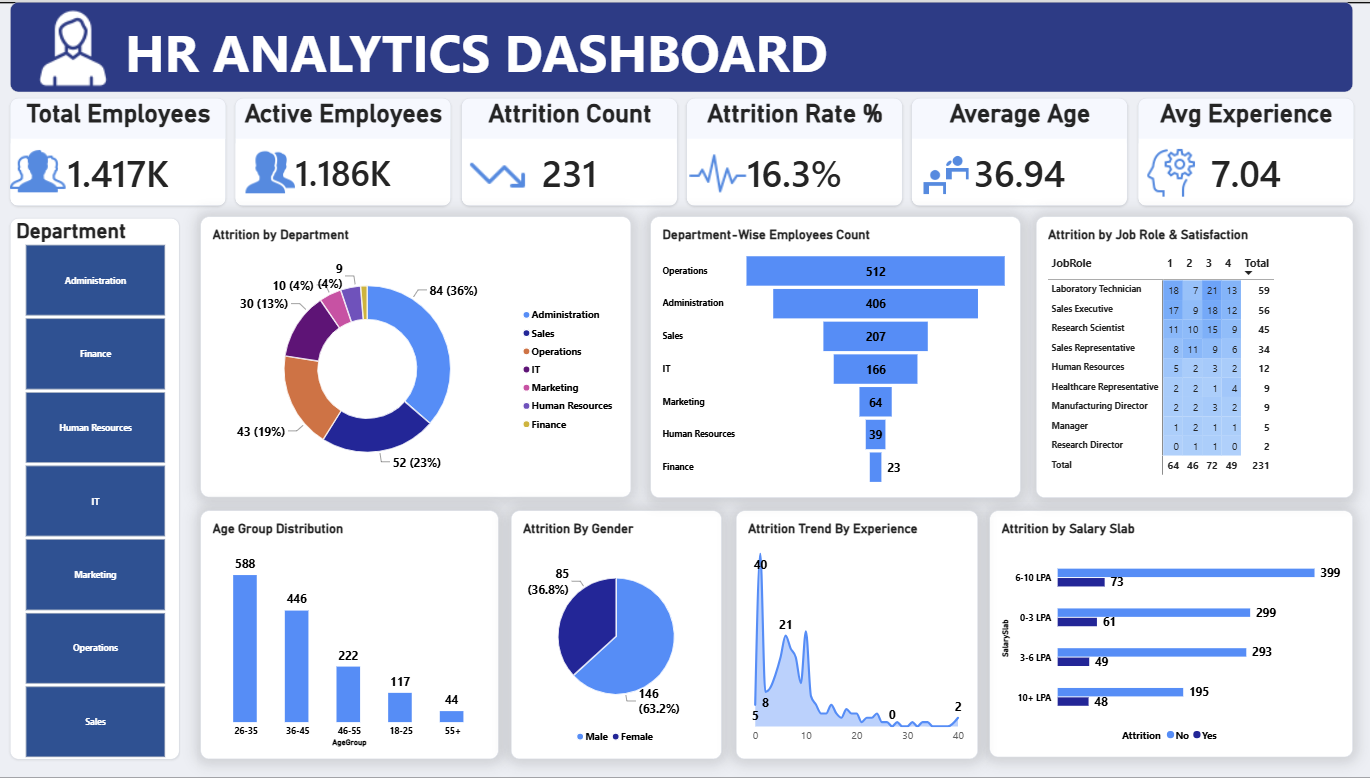

Layout of this report page (visuals, bound fields, positions):
{"tool":"powerbi","page":{"name":"HR Analytics","canvas":[1920,1080],"ordinal":0},"visuals":[{"type":"textbox","box":[25.6,0,1865.1,125.6],"z":0},{"type":"cardVisual","title":"Total Employees","fields":{"Data":["CountNonNull(HR_Analytics-4.EmpID)"]},"box":[25,134.1,300,150],"z":1000},{"type":"cardVisual","title":"Attrition Count","fields":{"Data":["Sum(HR_Analytics-4.AttritionCount)"]},"box":[651.4,134.1,300,150],"z":2000},{"type":"cardVisual","title":"Attrition Rate %","fields":{"Data":["HR_Analytics-4.Attrition Rate %"]},"box":[964.5,134.1,300,150],"z":3000},{"type":"cardVisual","title":"Average Age","fields":{"Data":["Avg(HR_Analytics-4.Age)"]},"box":[1277.7,134.1,300,150],"z":4000},{"type":"cardVisual","title":"Avg Experience","fields":{"Data":["Avg(HR_Analytics-4.YearsatCompany)"]},"box":[1590.9,134.1,300,150],"z":5000},{"type":"cardVisual","title":"Active Employees","fields":{"Data":["CountNonNull(HR_Analytics-4.EmployeeCount)"]},"box":[338.2,134.1,300,150],"z":6000},{"type":"donutChart","title":"Attrition by Department","fields":{"Category":["HR_Analytics-4.Department"],"Y":["Sum(HR_Analytics-4.AttritionCount)"]},"box":[290,298,598,390],"z":7000},{"type":"clusteredBarChart","title":"Attrition by Salary Slab","fields":{"Category":["HR_Analytics-4.SalarySlab"],"Series":["HR_Analytics-4.Attrition"],"Y":["CountNonNull(HR_Analytics-4.EmpID)"]},"box":[1385.7,707.1,504.8,342.9],"z":8000},{"type":"pivotTable","title":"Attrition by Job Role & Satisfaction","fields":{"Columns":["HR_Analytics-4.JobSatisfaction"],"Rows":["HR_Analytics-4.JobRole"],"Values":["Sum(HR_Analytics-4.AttritionCount)"]},"box":[1450,297.6,440.5,390.5],"z":9000},{"type":"columnChart","title":"Age Group Distribution ","fields":{"Category":["HR_Analytics-4.AgeGroup"],"Y":["Sum(HR_Analytics-4.EmployeeCount)"]},"box":[290.5,707.1,414.3,345.2],"z":10000},{"type":"pieChart","title":"Attrition By Gender","fields":{"Category":["HR_Analytics-4.Gender"],"Y":["Sum(HR_Analytics-4.AttritionCount)"]},"box":[721.4,707.1,292.9,345.2],"z":11000},{"type":"areaChart","title":"Attrition Trend By Experience","fields":{"Category":["HR_Analytics-4.TotalExperience(Years)"],"Y2":["Sum(HR_Analytics-4.AttritionCount)"]},"box":[1033.3,707.1,335.7,345.2],"z":12000},{"type":"funnel","title":"Department-Wise Employees Count","fields":{"Category":["HR_Analytics-4.Department"],"Y":["CountNonNull(HR_Analytics-4.EmpID)"]},"box":[914.3,297.6,514.3,390.5],"z":13000},{"type":"slicer","title":"Department","fields":{"Values":["HR_Analytics-4.Department"]},"box":[24.3,300.1,235.2,752.2],"z":14000},{"type":"image","box":[352.8,196.7,68.9,79.1],"z":15000},{"type":"image","box":[34,194,78,88],"z":16000},{"type":"image","box":[661,198.7,83.1,85.2],"z":17000},{"type":"image","box":[1293.6,196.7,62.9,89.2],"z":18000},{"type":"image","box":[959,200.7,99.4,79.1],"z":19000},{"type":"image","box":[1599.8,190.6,75,95.3],"z":20000},{"type":"image","box":[0,5,225,120],"z":21000}]}

Visuals, with their boxes in screenshot pixels (x1, y1, x2, y2), scaled from the page's 1920x1080 canvas onto the 1370x778 screenshot:
textbox: BBox(18, 0, 1349, 90)
"Total Employees" cardVisual: BBox(18, 97, 232, 205)
"Attrition Count" cardVisual: BBox(465, 97, 679, 205)
"Attrition Rate %" cardVisual: BBox(688, 97, 902, 205)
"Average Age" cardVisual: BBox(912, 97, 1126, 205)
"Avg Experience" cardVisual: BBox(1135, 97, 1349, 205)
"Active Employees" cardVisual: BBox(241, 97, 455, 205)
"Attrition by Department" donutChart: BBox(207, 215, 634, 496)
"Attrition by Salary Slab" clusteredBarChart: BBox(989, 509, 1349, 756)
"Attrition by Job Role & Satisfaction" pivotTable: BBox(1035, 214, 1349, 496)
"Age Group Distribution " columnChart: BBox(207, 509, 503, 758)
"Attrition By Gender" pieChart: BBox(515, 509, 724, 758)
"Attrition Trend By Experience" areaChart: BBox(737, 509, 977, 758)
"Department-Wise Employees Count" funnel: BBox(652, 214, 1019, 496)
"Department" slicer: BBox(17, 216, 185, 758)
image: BBox(252, 142, 301, 199)
image: BBox(24, 140, 80, 203)
image: BBox(472, 143, 531, 205)
image: BBox(923, 142, 968, 206)
image: BBox(684, 145, 755, 202)
image: BBox(1142, 137, 1195, 206)
image: BBox(0, 4, 161, 90)
